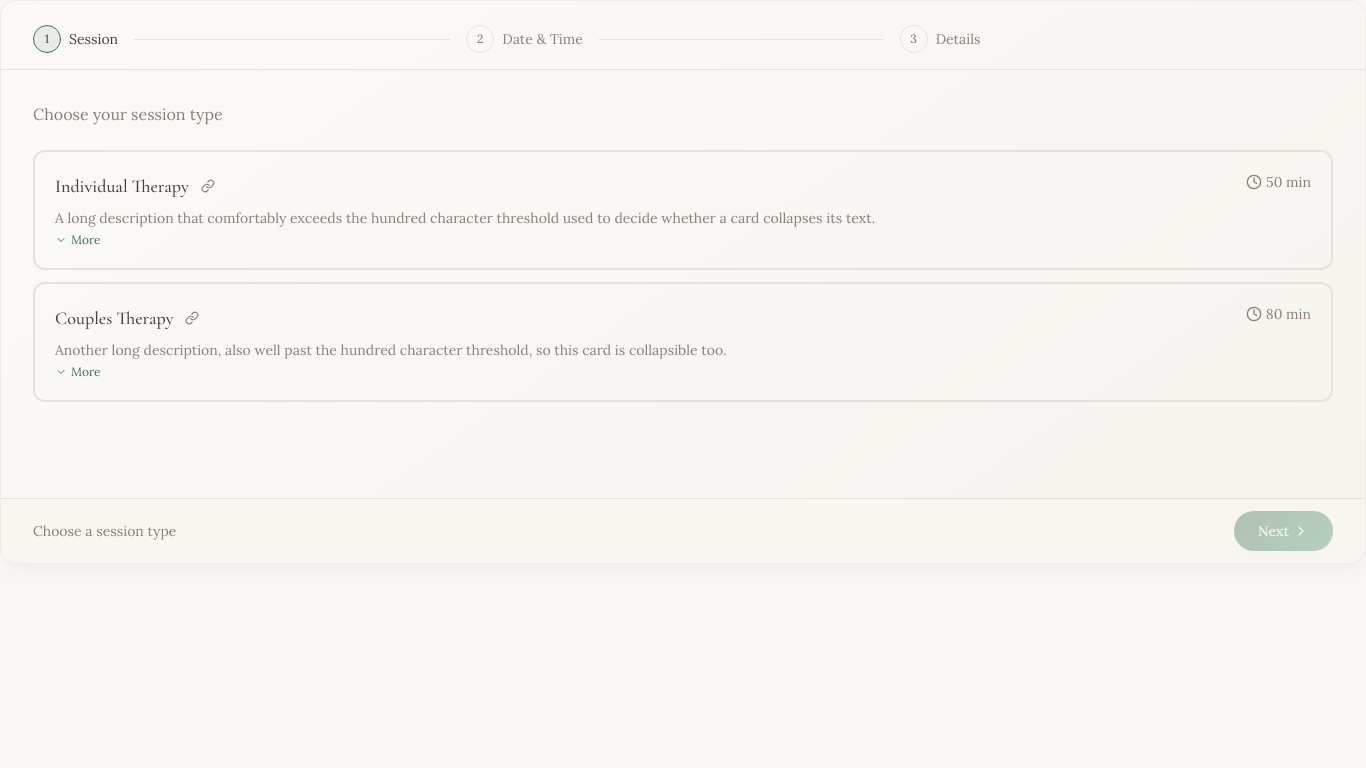
Test case: 6b — expanding a card collapses its siblings › keeps only one description open at a time
The image size is (1366, 768).
Click the button "More" below "Individual Therapy" at (78, 240), box [55,232,101,248]
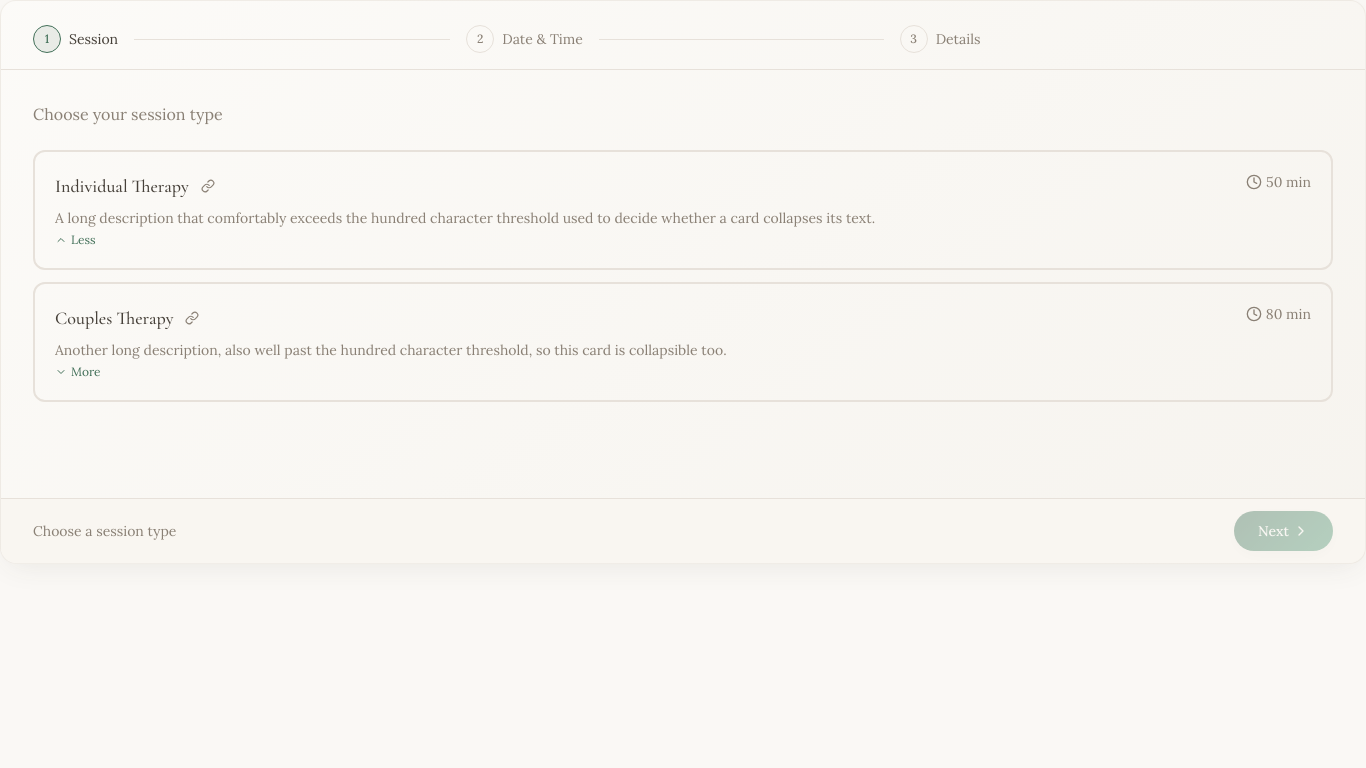
Now the button named "more" is expanded, box [55,232,96,248]
Note: Opening the second must close the first, so total height stays put.
Click the button "More" at (78, 372), box [55,364,101,380]
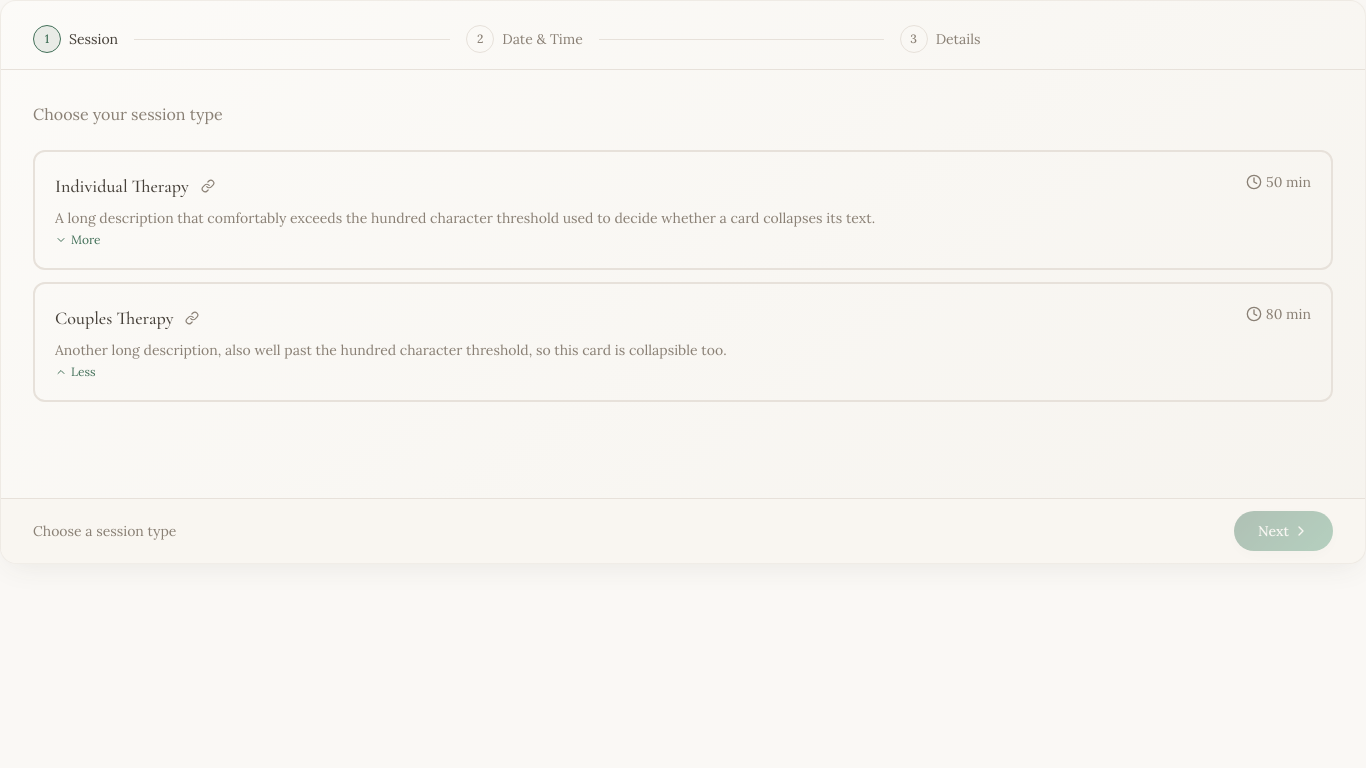
Now the button "More" is collapsed, box [55,232,101,248]
Now the button named "more" is expanded, box [55,364,96,380]
